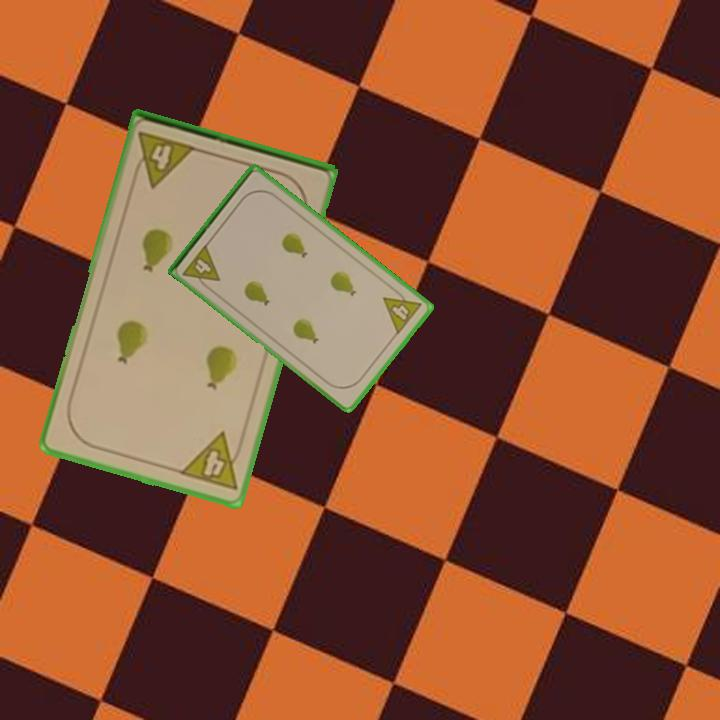4p: (176, 428, 248, 494), (129, 128, 199, 191), (379, 283, 424, 337), (179, 240, 223, 293)
